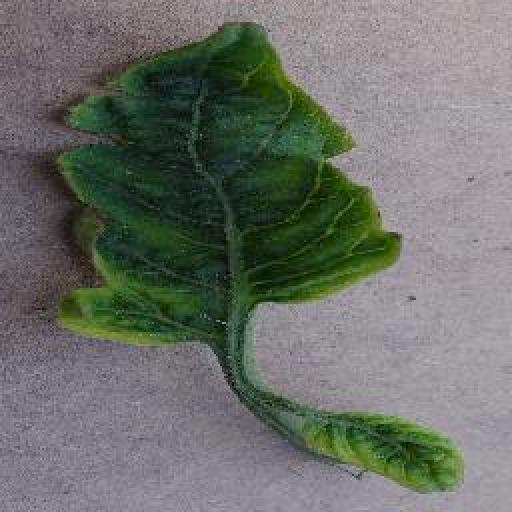disease_tomato: (44, 20, 400, 348), (283, 404, 464, 494)
